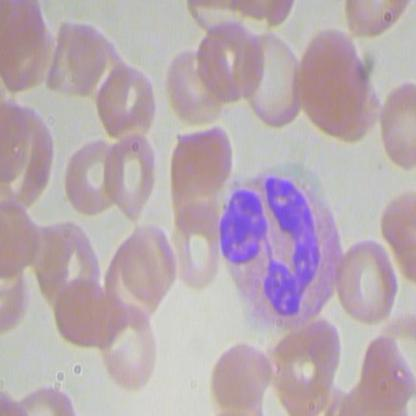RBC: (333, 231, 398, 328), (194, 19, 268, 102), (89, 60, 157, 142), (155, 47, 223, 129), (167, 194, 221, 293), (95, 303, 158, 387), (211, 332, 274, 415), (103, 135, 159, 220), (64, 135, 120, 220), (376, 75, 415, 170)
WBC: (207, 162, 351, 328)
